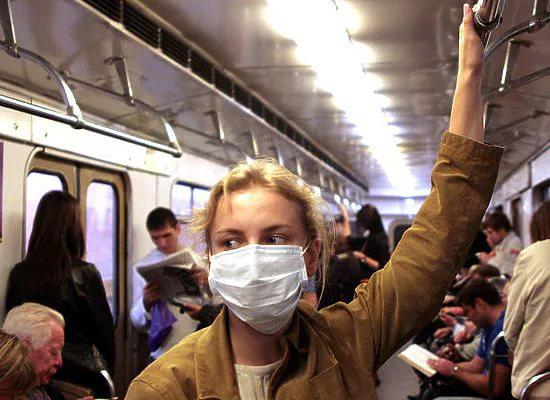mask: (211, 197, 309, 326)
none: (21, 323, 64, 380), (464, 289, 497, 326), (148, 219, 180, 251), (486, 222, 506, 244)
